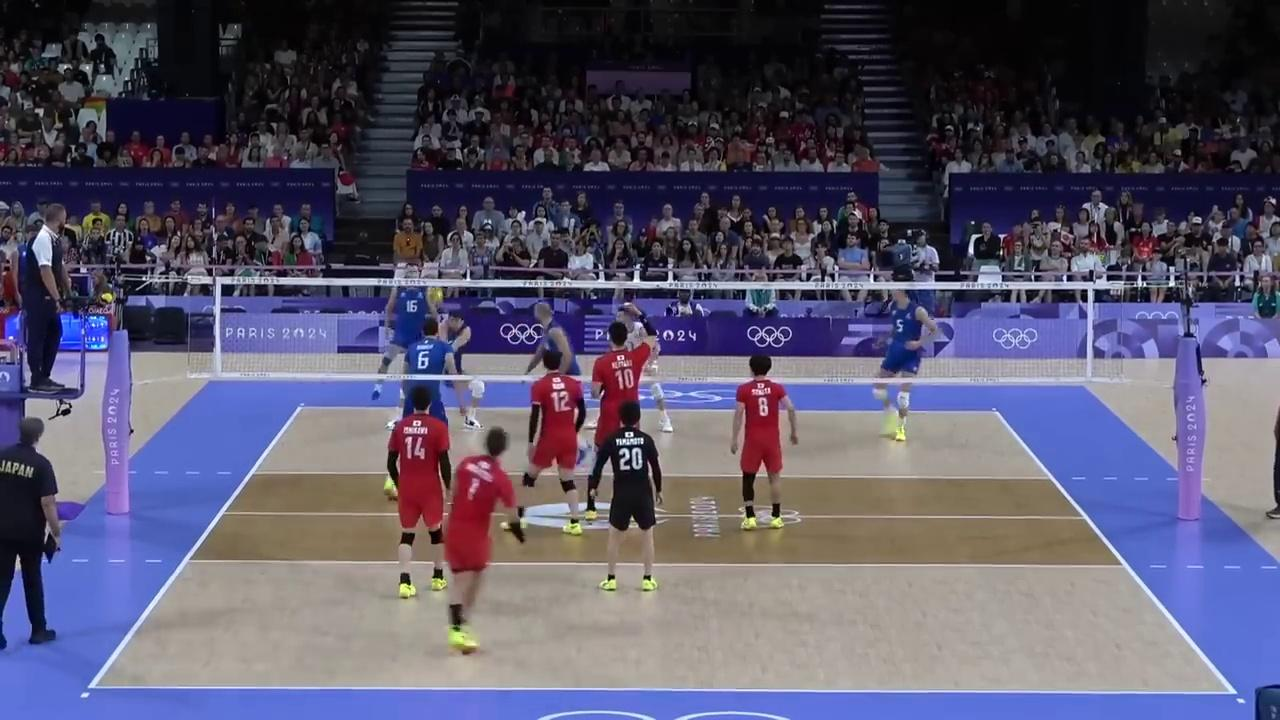ball: (427, 286, 444, 305)
